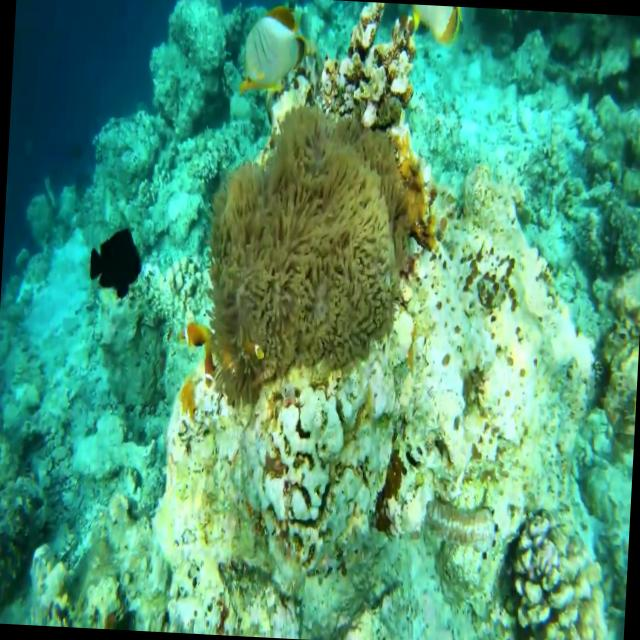fish: (227, 0, 311, 103), (79, 216, 149, 323)
